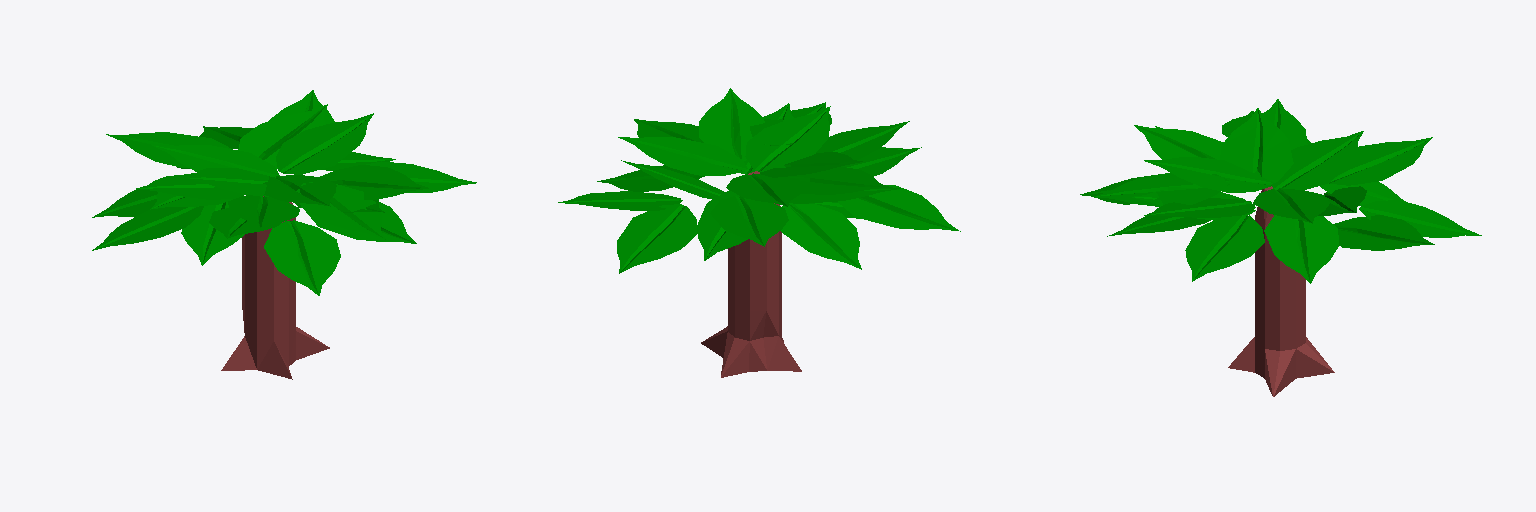
Rendered from tree.obj.
The picture shows the model from 3 angles: view 1: azimuth 30°, elevation 25°; view 2: azimuth 150°, elevation 25°; view 3: azimuth 270°, elevation 25°; orthographic projection.
Parts seen in each view (by area): view 1: leaves, pien; view 2: leaves, pien; view 3: leaves, pien.
Part boxes in pixels (bbox=[...]): leaves: bbox=[92, 90, 476, 295]; pien: bbox=[221, 196, 329, 379]; leaves: bbox=[558, 88, 960, 273]; pien: bbox=[701, 171, 801, 377]; leaves: bbox=[1080, 99, 1481, 283]; pien: bbox=[1228, 186, 1334, 396].
Size of the model in its own units: 1.78 by 1.01 by 1.74.